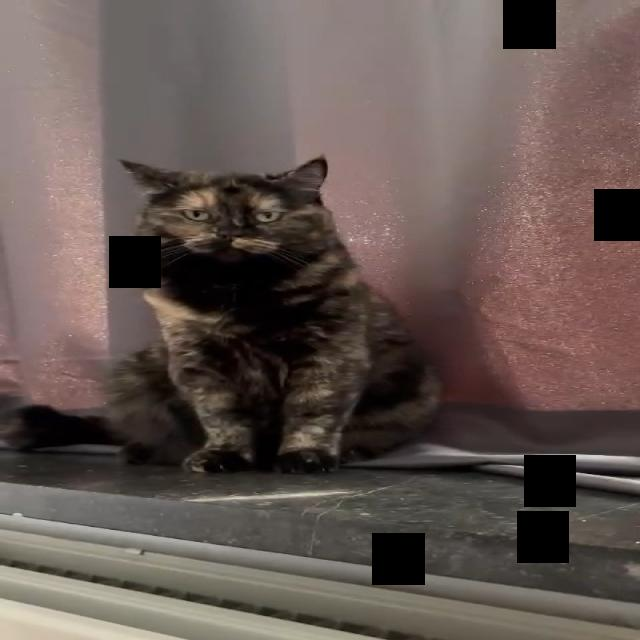authorized: (3, 152, 445, 474)
